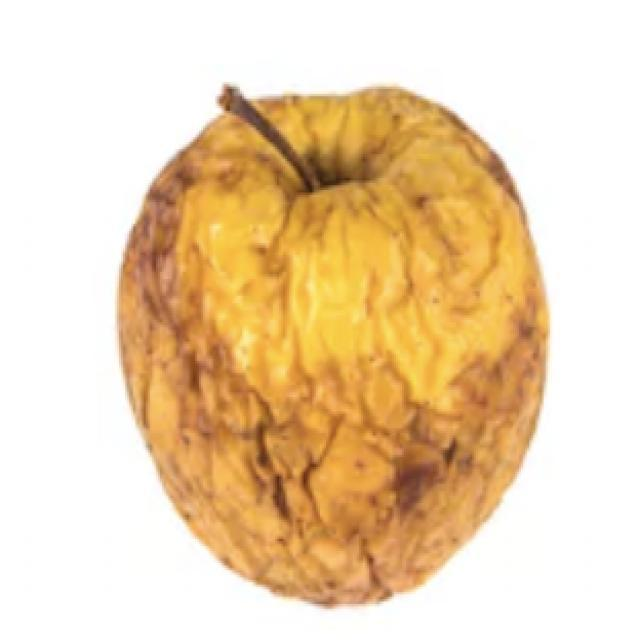Rotten: (111, 85, 556, 610)
